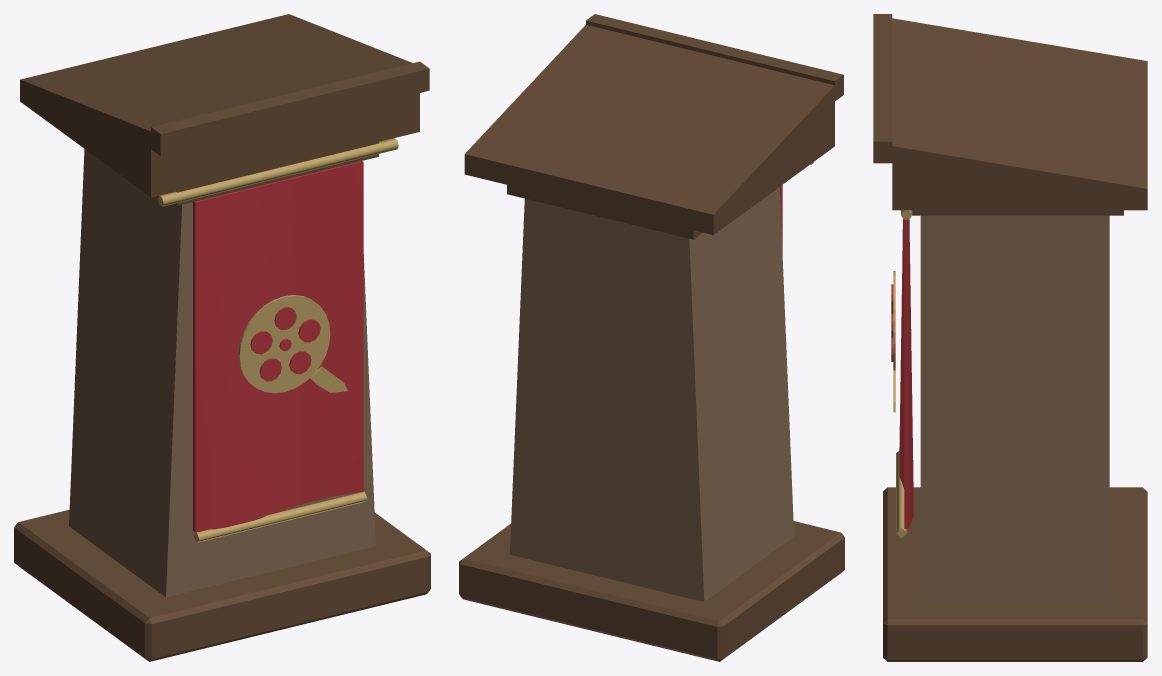
Rendered from lectern.glb.
3 views of the same model, side by side, from view 1: azimuth 30°, elevation 25°; view 2: azimuth 150°, elevation 25°; view 3: azimuth 270°, elevation 25° (orthographic). The views are drawn at different scales.
Parts seen in each view (by area): view 1: dark_wood__lectern__solid, wood__lectern__solid, velvet__lectern__solid, brass__lectern__ns, brass__lectern__solid, velvet__lectern__ns; view 2: wood__lectern__solid, dark_wood__lectern__solid; view 3: wood__lectern__solid, dark_wood__lectern__solid, velvet__lectern__solid, brass__lectern__ns.
Boxes of the visible parts, x1,y1,x2,y2 form: dark_wood__lectern__solid: (14, 14, 430, 661); wood__lectern__solid: (69, 149, 375, 597); velvet__lectern__solid: (193, 161, 363, 532); brass__lectern__ns: (194, 295, 367, 542); brass__lectern__solid: (157, 138, 398, 206); velvet__lectern__ns: (250, 307, 320, 381); wood__lectern__solid: (510, 187, 793, 601); dark_wood__lectern__solid: (459, 14, 844, 661); wood__lectern__solid: (920, 215, 1109, 603); dark_wood__lectern__solid: (873, 14, 1147, 661); velvet__lectern__solid: (899, 219, 913, 528); brass__lectern__ns: (893, 271, 907, 537).
Bounding box in the file's own units: 0.68 × 1.21 × 0.58.
